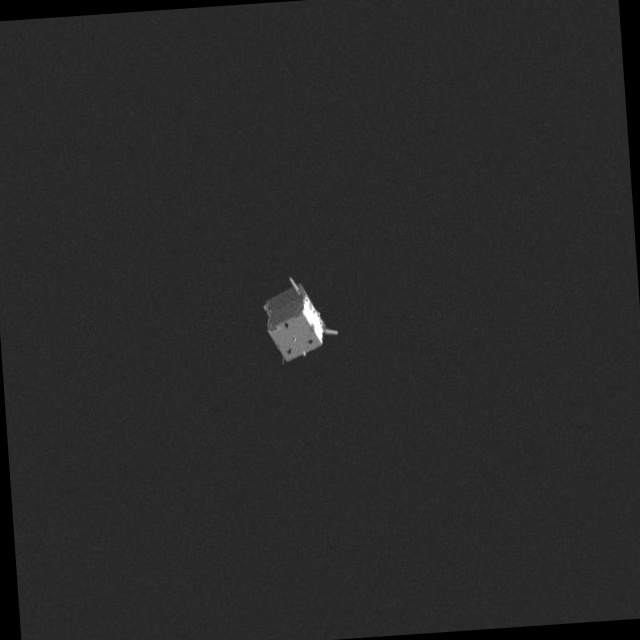satellite: (249, 270, 351, 371)
